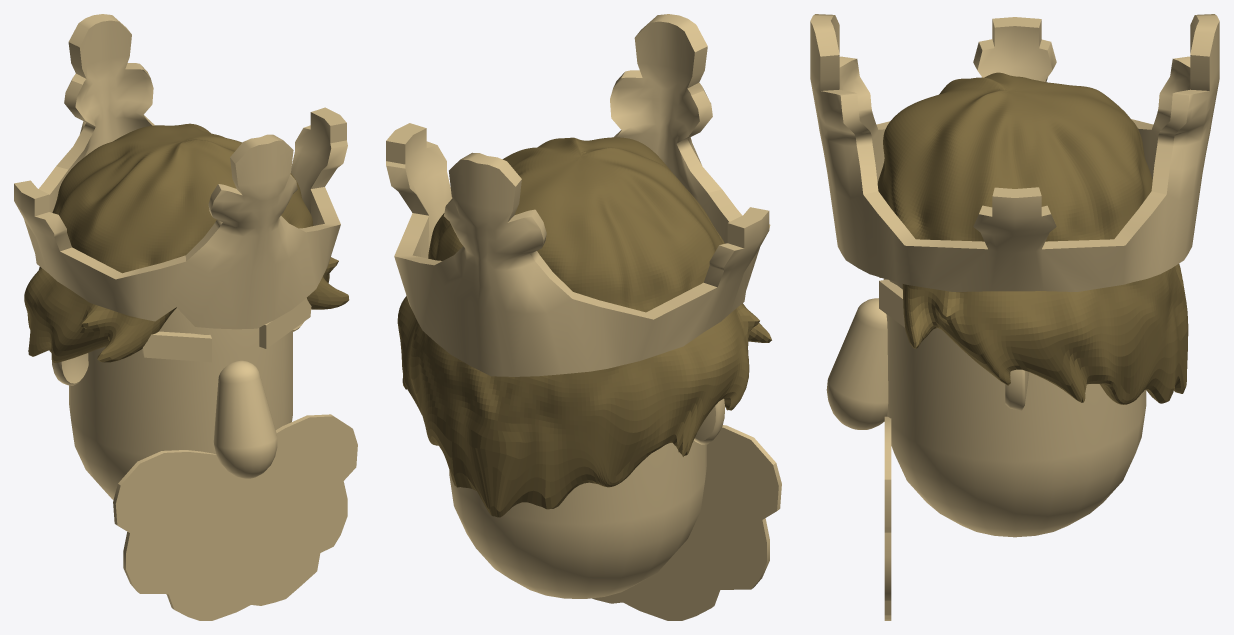
Rendered from KingHeadUVd.fbx.
3 views of the same model, side by side, from view 1: azimuth 30°, elevation 25°; view 2: azimuth 150°, elevation 25°; view 3: azimuth 270°, elevation 25° (orthographic). The views are drawn at different scales.
Visible parts, largest first — view 1: crown, beard, Hair, head_shape, nose, right_brow, left_brow, right_ear; view 2: Hair, crown, head_shape, beard, right_ear; view 3: Hair, crown, head_shape, nose, beard, left_brow, left_ear.
Part boxes in pixels (<box>): crown: <box>14,14,347,329</box>; beard: <box>113,414,357,620</box>; Hair: <box>24,123,349,362</box>; head_shape: <box>69,308,292,499</box>; nose: <box>213,360,277,478</box>; right_brow: <box>142,331,211,362</box>; left_brow: <box>259,298,311,348</box>; right_ear: <box>52,353,88,385</box>; Hair: <box>397,137,771,517</box>; crown: <box>386,14,770,376</box>; head_shape: <box>449,440,706,598</box>; beard: <box>592,425,781,620</box>; right_ear: <box>694,398,725,444</box>; Hair: <box>877,72,1188,404</box>; crown: <box>810,14,1219,291</box>; head_shape: <box>883,278,1146,537</box>; nose: <box>826,298,888,429</box>; beard: <box>884,416,891,620</box>; left_brow: <box>879,279,904,327</box>; left_ear: <box>1005,369,1029,410</box>.
Size of the model in its own units: 44.98 by 66.78 by 42.96.
